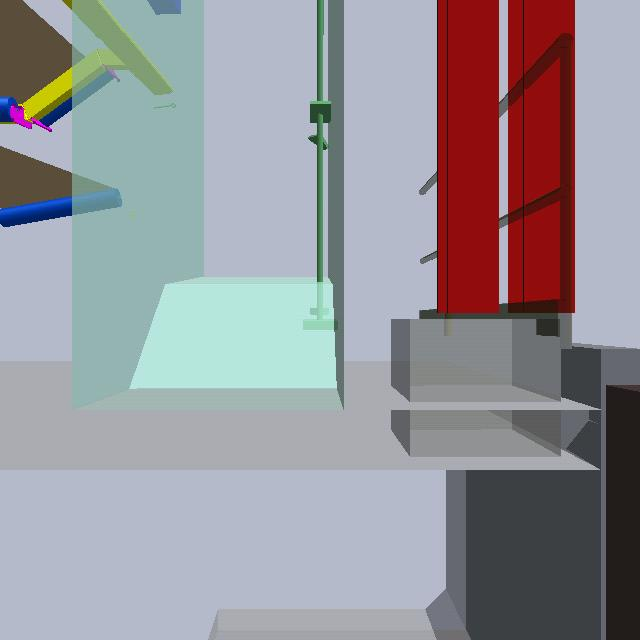Poste: (312, 1, 325, 336)
